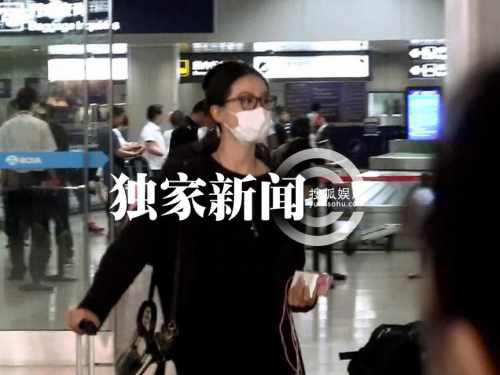OK: (223, 92, 274, 143)
